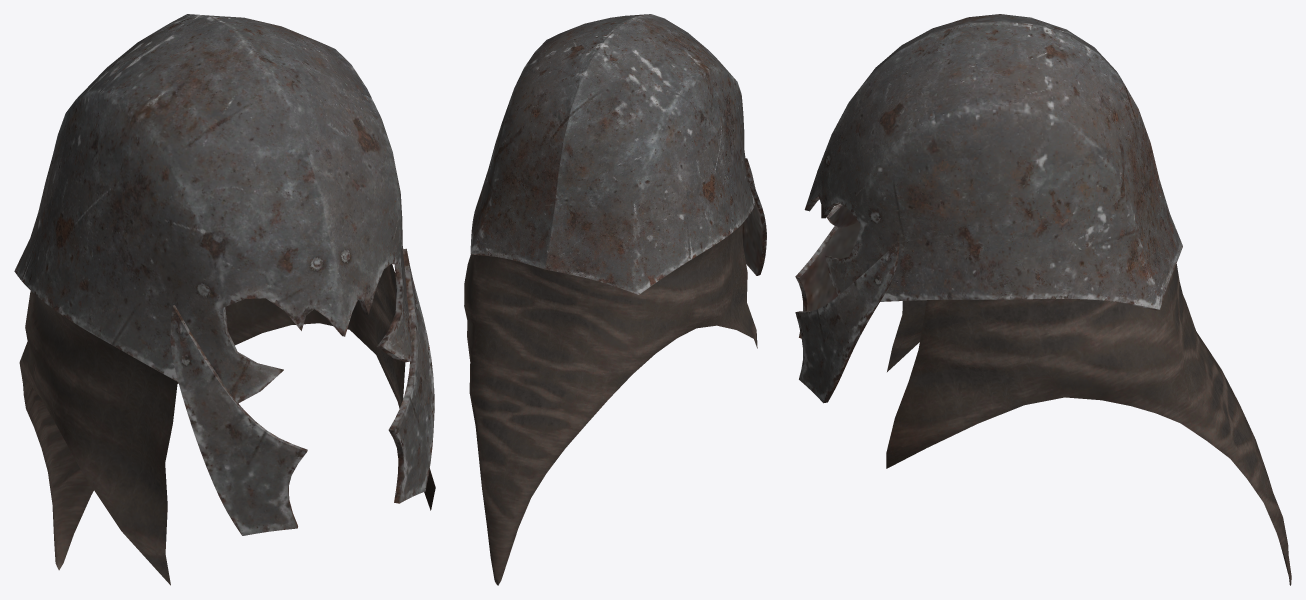
Rendered from sk_gb_uruk_helmet_med_c.fbx.
3 renders of one model, left to right at view 1: azimuth 30°, elevation 25°; view 2: azimuth 150°, elevation 25°; view 3: azimuth 270°, elevation 25°, orthographic. The views are drawn at different scales.
Visible parts, largest first — view 1: sk_gb_uruk_helmet_med_c; view 2: sk_gb_uruk_helmet_med_c; view 3: sk_gb_uruk_helmet_med_c.
Part boxes in pixels (box(x1,y1,x2,y2)): sk_gb_uruk_helmet_med_c: box(14, 14, 435, 585); sk_gb_uruk_helmet_med_c: box(464, 14, 766, 585); sk_gb_uruk_helmet_med_c: box(795, 14, 1291, 585).
Size of the model in its own units: 0.2487 by 0.3859 by 0.4836.
1 material, 1 textured.
